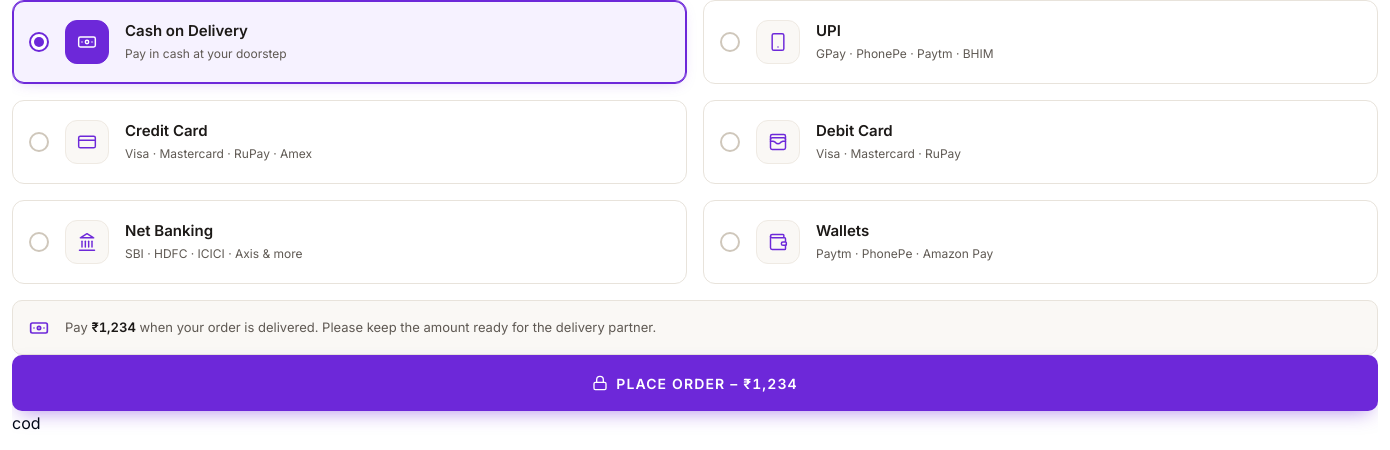
Payment method cards › every option can be selected, and the selection updates
Click the radio button labelled "UPI GPay · PhonePe · Paytm · BHIM".
click(778, 42)  # box [703,0,1378,84]
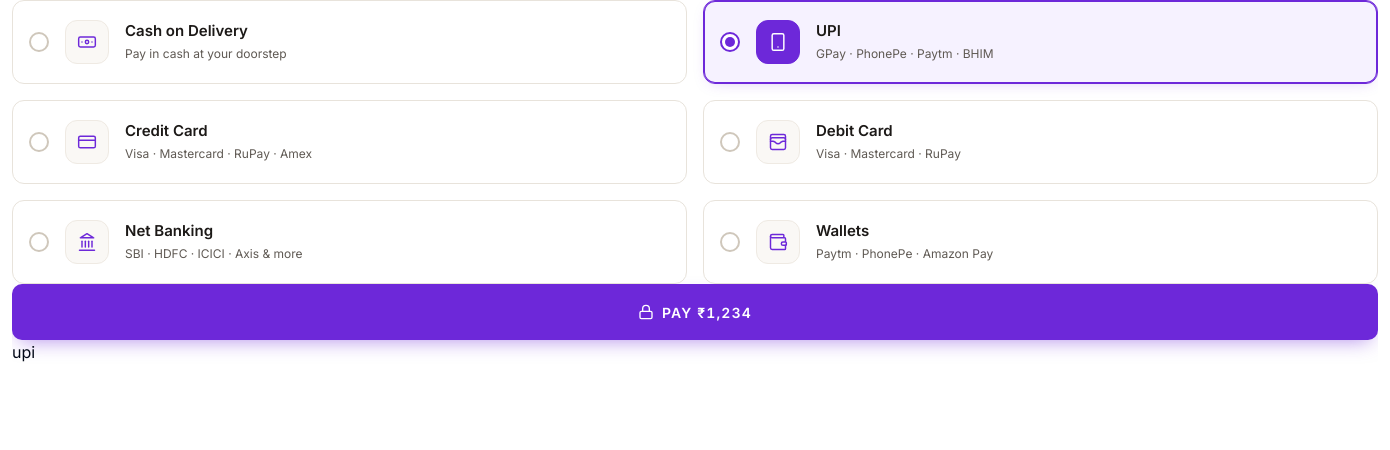
Check: the radio button labelled "UPI GPay · PhonePe · Paytm · BHIM" is checked, box [703,0,1378,84]
Check: the text with test id "selected" reads "upi", box [12,342,35,362]
Click the radio button labelled "Credit Card Visa · Mastercard · RuPay · Amex".
click(87, 142)  # box [12,100,687,184]
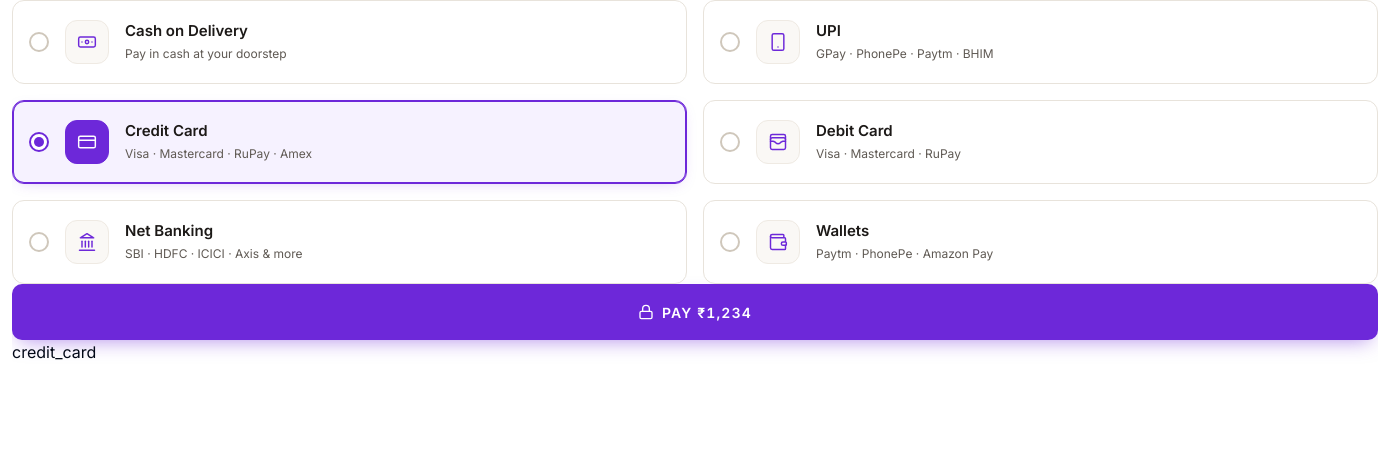
Check: the radio button labelled "Credit Card Visa · Mastercard · RuPay · Amex" is checked, box [12,100,687,184]
Check: the text with test id "selected" reads "credit_card", box [12,342,96,362]
Click the radio button labelled "Debit Card Visa · Mastercard · RuPay".
click(778, 142)  # box [703,100,1378,184]
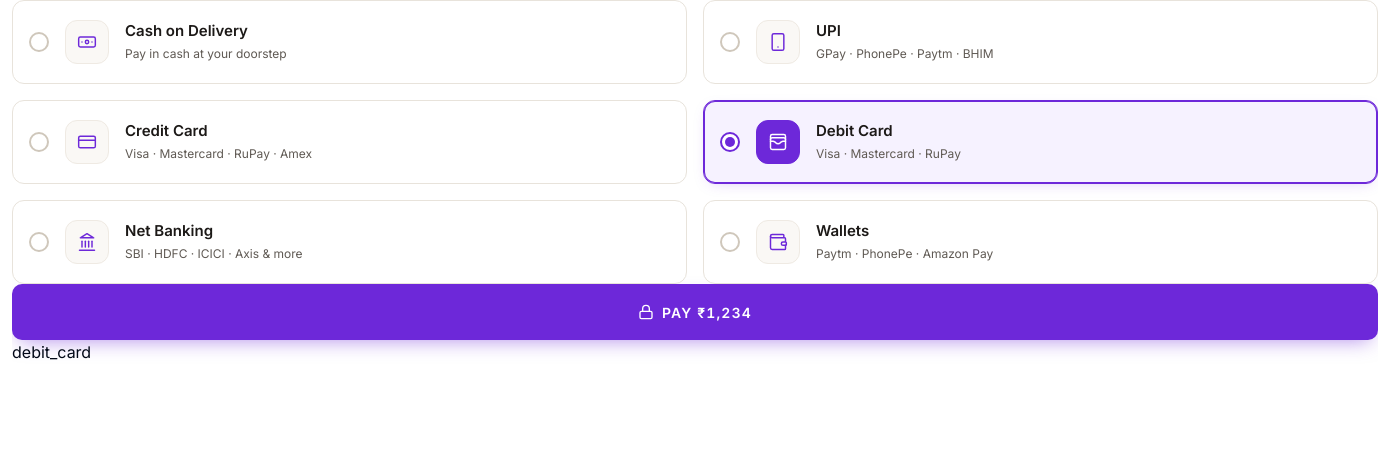
Check: the radio button labelled "Debit Card Visa · Mastercard · RuPay" is checked, box [703,100,1378,184]
Check: the text with test id "selected" reads "debit_card", box [12,342,91,362]
Click the radio button labelled "Net Banking SBI · HDFC · ICICI · Axis & more".
click(87, 242)  # box [12,200,687,284]
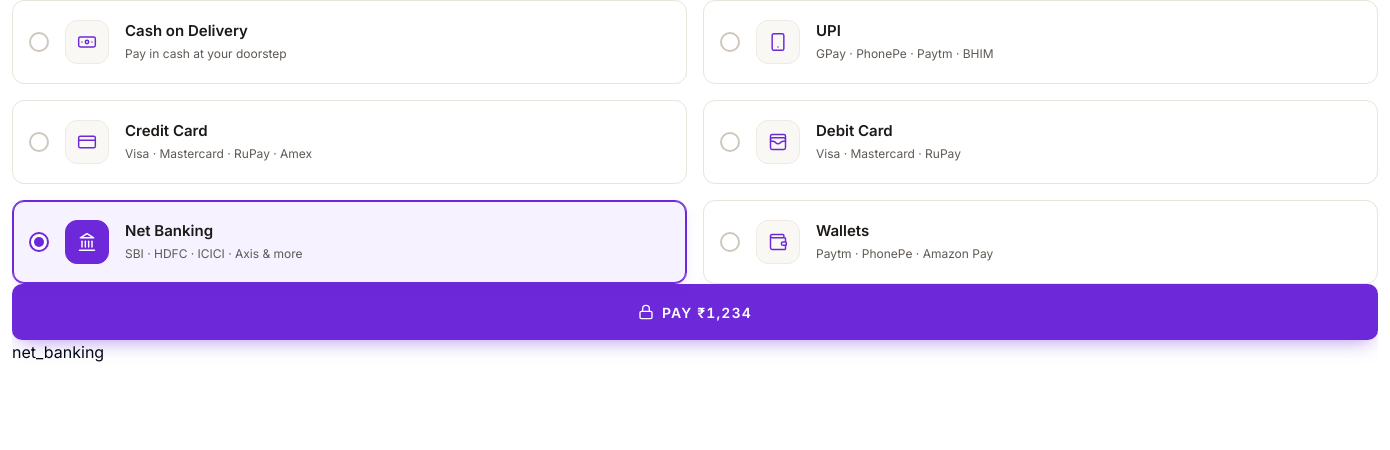
Check: the radio button labelled "Net Banking SBI · HDFC · ICICI · Axis & more" is checked, box [12,200,687,284]
Check: the text with test id "selected" reads "net_banking", box [12,342,104,362]
Click the radio button labelled "Wallets Paytm · PhonePe · Amazon Pay".
click(778, 242)  # box [703,200,1378,284]
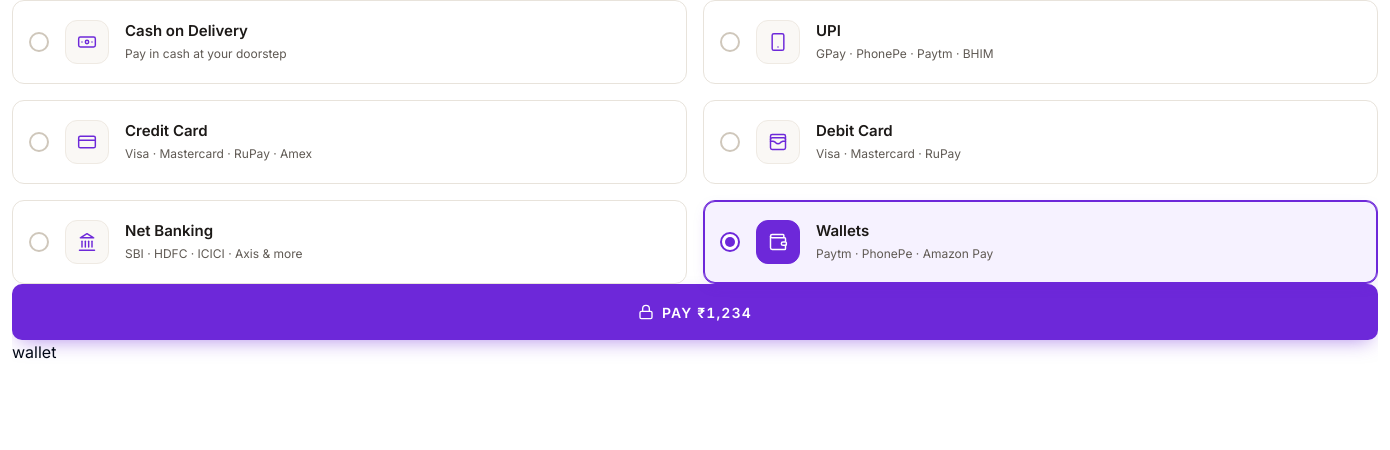
Check: the radio button labelled "Wallets Paytm · PhonePe · Amazon Pay" is checked, box [703,200,1378,284]
Check: the text with test id "selected" reads "wallet", box [12,342,56,362]
Click the radio button labelled "Cash on Delivery Pay in cash at your doorstep".
click(87, 42)  # box [12,0,687,84]
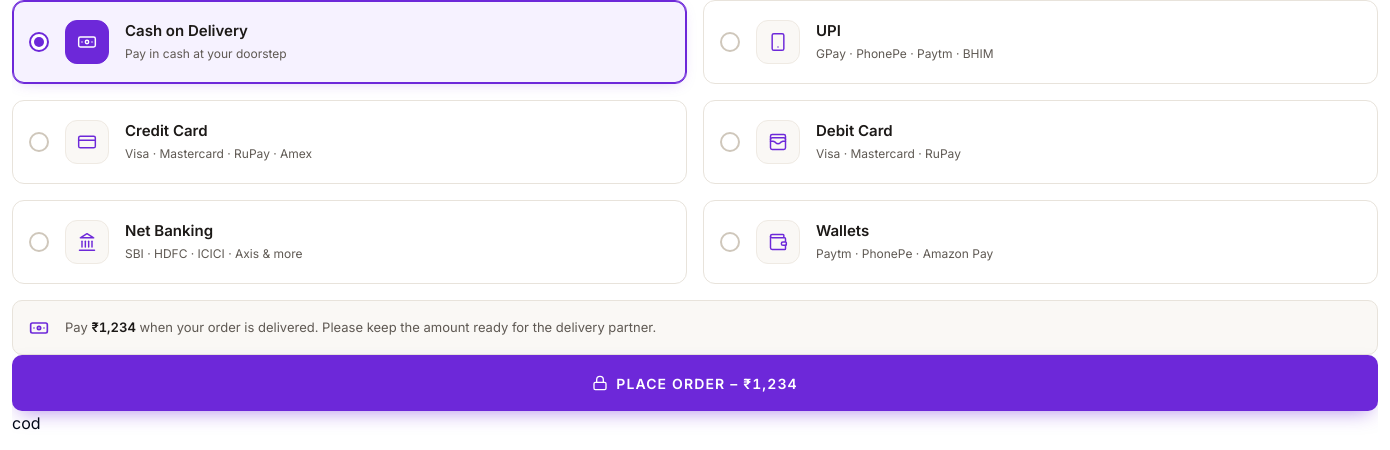
Check: the radio button labelled "Cash on Delivery Pay in cash at your doorstep" is checked, box [12,0,687,84]
Check: the text with test id "selected" reads "cod", box [12,413,40,433]
